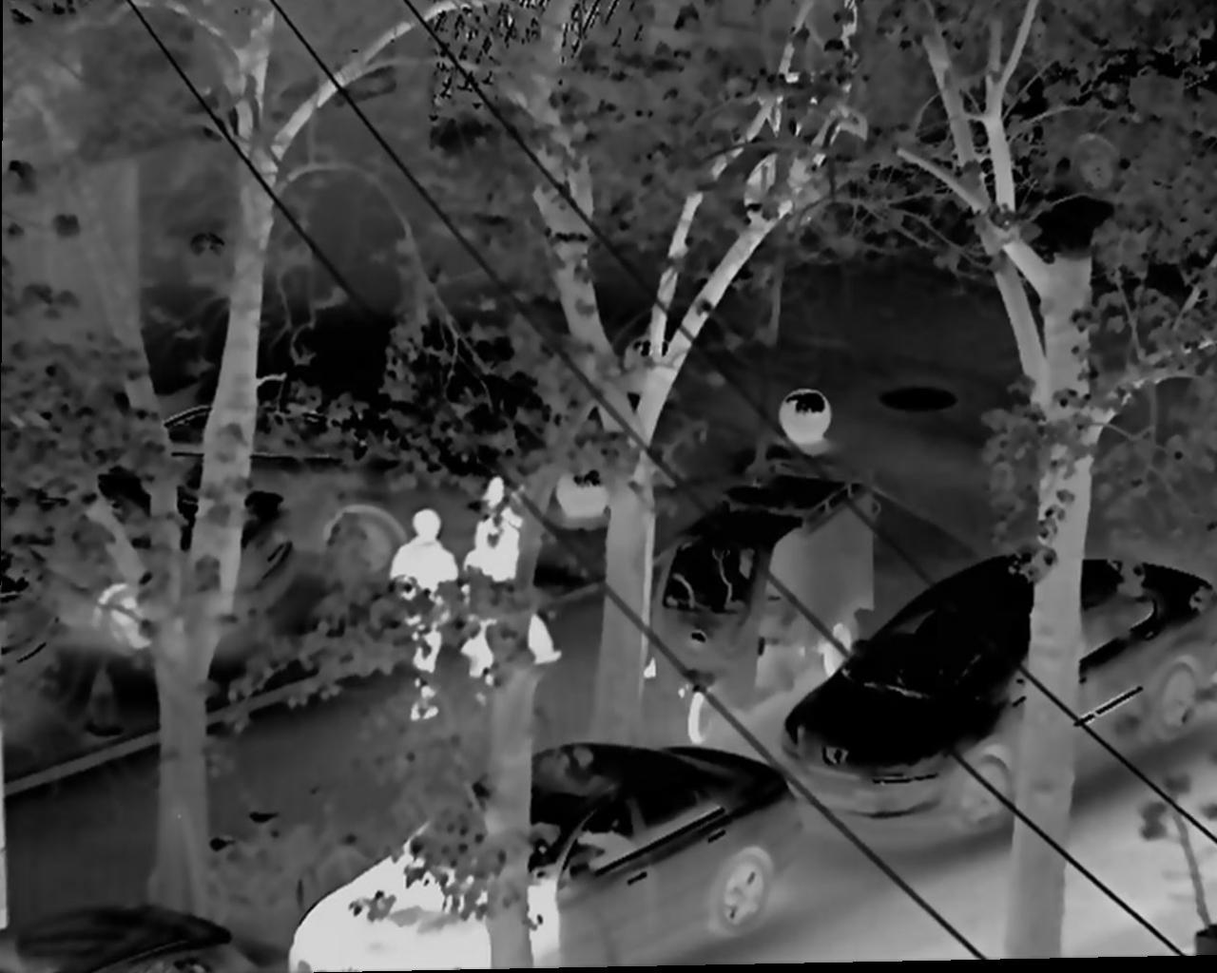person: (454, 478, 565, 673), (380, 493, 460, 724)
